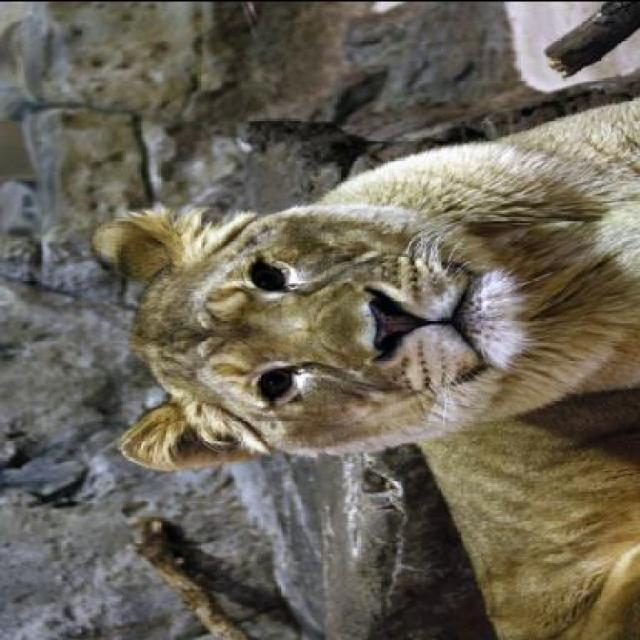Lion: (81, 100, 638, 638)
